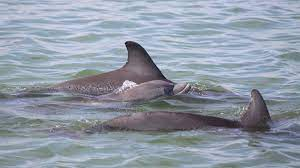fin: (17, 33, 206, 102)
